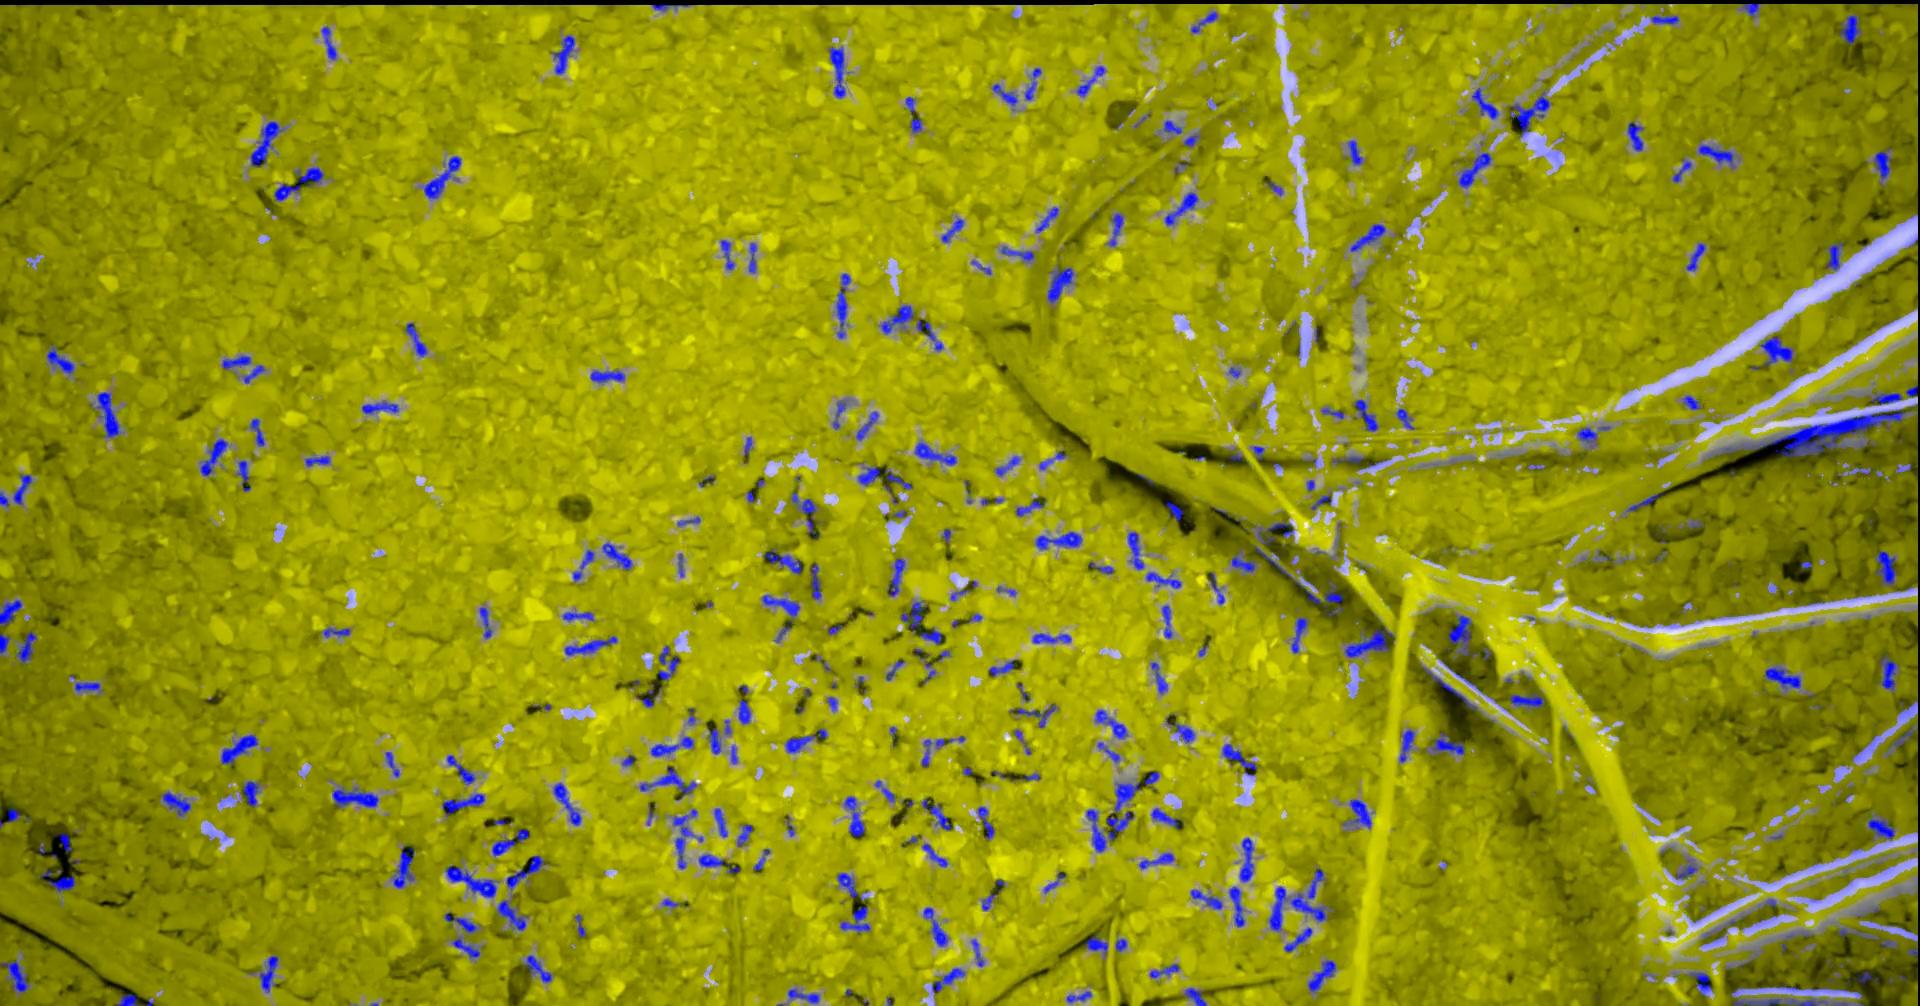ant: (1086, 782, 1139, 851), (1269, 887, 1327, 931), (1423, 667, 1477, 709), (1255, 545, 1303, 587), (1448, 615, 1491, 659), (639, 767, 696, 799), (1509, 91, 1549, 136), (761, 594, 799, 641), (900, 601, 941, 644), (444, 865, 497, 897), (273, 166, 323, 199), (1343, 625, 1393, 657), (423, 156, 460, 198), (672, 809, 697, 869), (250, 121, 282, 166), (505, 855, 546, 890), (1304, 580, 1342, 615), (552, 782, 582, 826), (791, 492, 817, 537), (1458, 152, 1490, 188), (1164, 192, 1197, 225), (1222, 743, 1256, 775), (564, 635, 617, 655), (220, 734, 257, 763), (828, 46, 848, 98), (97, 391, 119, 437), (1010, 704, 1055, 727), (1349, 224, 1385, 251), (491, 828, 528, 856), (1759, 335, 1792, 366), (441, 793, 484, 815), (201, 438, 227, 475), (785, 728, 825, 752), (921, 798, 951, 829), (497, 899, 528, 930), (1095, 709, 1128, 738), (880, 305, 914, 333), (914, 442, 956, 465), (923, 907, 947, 946), (764, 547, 801, 573), (1730, 984, 1803, 997), (921, 738, 952, 767), (1470, 86, 1498, 119), (1307, 959, 1335, 992), (836, 273, 850, 338), (392, 845, 414, 887), (1048, 267, 1073, 302), (331, 788, 378, 807), (1076, 65, 1103, 97), (0, 960, 28, 992), (1732, 997, 1848, 1005), (650, 735, 693, 756), (1255, 522, 1293, 545), (446, 754, 475, 784), (839, 904, 869, 934), (916, 319, 942, 351), (1764, 666, 1801, 688), (931, 967, 964, 992), (1035, 531, 1082, 549), (1430, 730, 1464, 754), (552, 36, 574, 74), (46, 344, 74, 373), (1343, 799, 1371, 828), (522, 954, 551, 982), (1698, 144, 1733, 166), (39, 869, 75, 892), (657, 645, 679, 680), (602, 542, 631, 569), (1164, 715, 1194, 742), (1876, 550, 1897, 586), (913, 648, 935, 683), (1352, 399, 1377, 431), (844, 796, 863, 836), (571, 549, 594, 580), (1150, 807, 1183, 828), (1867, 814, 1895, 840), (161, 791, 190, 815), (1283, 927, 1310, 951), (405, 323, 425, 356), (15, 631, 36, 664), (1839, 14, 1860, 44), (1625, 493, 1662, 511), (259, 955, 277, 992), (1228, 887, 1244, 926), (1190, 889, 1222, 909), (444, 912, 476, 932), (855, 412, 877, 439), (888, 558, 904, 596), (1239, 837, 1253, 882), (636, 683, 662, 708), (1035, 206, 1058, 232), (921, 843, 947, 866), (11, 473, 30, 504), (884, 467, 912, 489), (1890, 727, 1919, 747), (1879, 653, 1896, 688), (992, 83, 1017, 105), (1128, 531, 1143, 569), (1688, 970, 1710, 996), (1145, 572, 1180, 588), (1023, 67, 1041, 99), (1873, 147, 1891, 179), (1015, 497, 1044, 516), (0, 600, 22, 625), (1398, 729, 1415, 762), (1190, 11, 1217, 32), (1138, 852, 1173, 868), (1307, 868, 1324, 898), (1686, 243, 1705, 271), (451, 937, 479, 956), (1150, 662, 1167, 694), (977, 807, 993, 838), (787, 988, 819, 1005), (1291, 617, 1307, 652), (1509, 692, 1543, 708), (941, 218, 963, 243), (1825, 241, 1843, 271), (321, 25, 337, 58), (1627, 121, 1643, 151), (837, 873, 857, 897), (999, 246, 1034, 260), (361, 400, 397, 413), (874, 780, 895, 801), (996, 455, 1018, 475), (1109, 213, 1123, 246), (1210, 572, 1224, 605), (1672, 158, 1691, 182), (1230, 553, 1255, 572), (236, 460, 250, 492), (988, 659, 1015, 676), (1097, 742, 1119, 762), (1164, 500, 1183, 523), (1043, 873, 1065, 892), (1084, 934, 1107, 953), (720, 239, 734, 269), (222, 354, 250, 370), (249, 418, 264, 446), (712, 808, 728, 836), (590, 370, 623, 382), (243, 365, 264, 384), (1396, 408, 1415, 429), (1577, 427, 1596, 448), (857, 466, 879, 485), (243, 780, 258, 807), (1183, 987, 1206, 1005), (479, 607, 491, 638), (1032, 633, 1070, 643), (810, 563, 820, 600), (385, 751, 399, 777), (1149, 964, 1178, 977), (1870, 392, 1902, 404), (753, 848, 770, 870), (832, 401, 844, 428), (885, 661, 903, 680), (707, 727, 720, 753), (1349, 140, 1363, 164), (1161, 605, 1171, 638), (1837, 927, 1870, 937), (737, 824, 752, 846), (1675, 862, 1697, 878), (74, 681, 102, 692), (971, 939, 983, 967), (738, 699, 750, 723), (698, 854, 723, 866), (651, 3, 690, 10), (303, 455, 329, 466), (1065, 991, 1091, 1002), (1310, 495, 1331, 509), (1088, 561, 1112, 573), (1857, 970, 1878, 983), (563, 611, 593, 620), (1321, 406, 1343, 418), (574, 915, 585, 937), (116, 993, 138, 1005), (1650, 15, 1679, 24), (58, 832, 71, 852), (1741, 3, 1759, 17), (1163, 119, 1181, 133), (1683, 395, 1700, 409), (323, 627, 349, 636), (1332, 456, 1363, 464), (982, 893, 996, 909), (748, 243, 756, 272), (1876, 937, 1897, 948), (1144, 770, 1158, 785), (0, 633, 10, 653), (1905, 384, 1919, 398), (6, 808, 20, 822), (1183, 133, 1197, 146), (1252, 445, 1263, 460), (1115, 937, 1126, 951), (910, 118, 921, 132), (905, 97, 914, 112)
